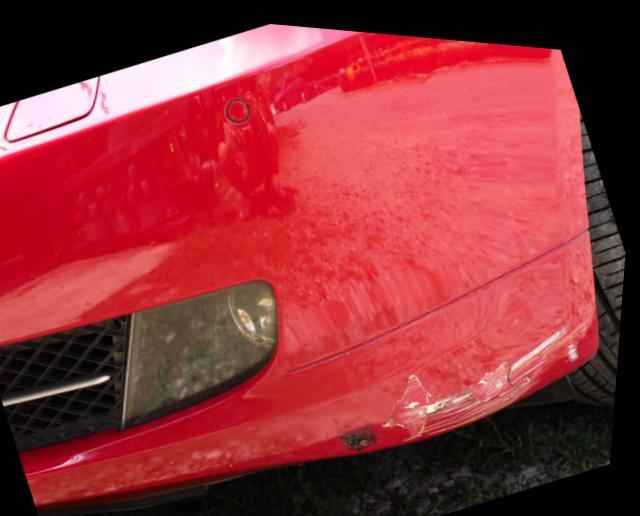scratch: (343, 305, 594, 443)
